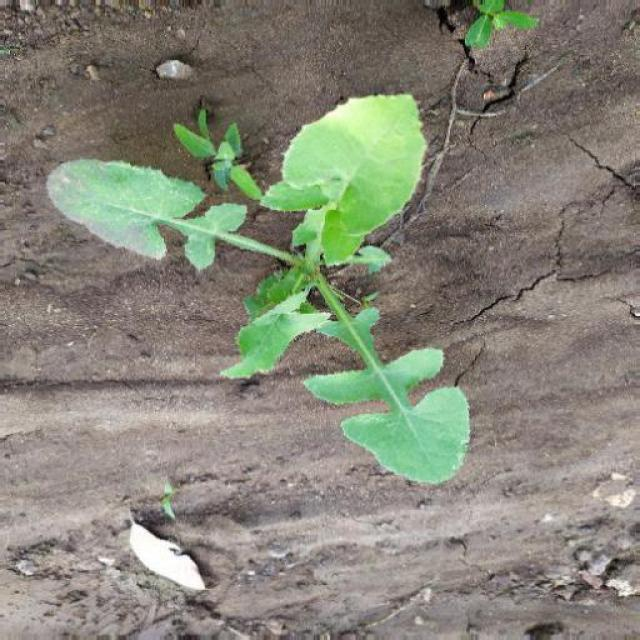weed: (45, 94, 475, 511)
